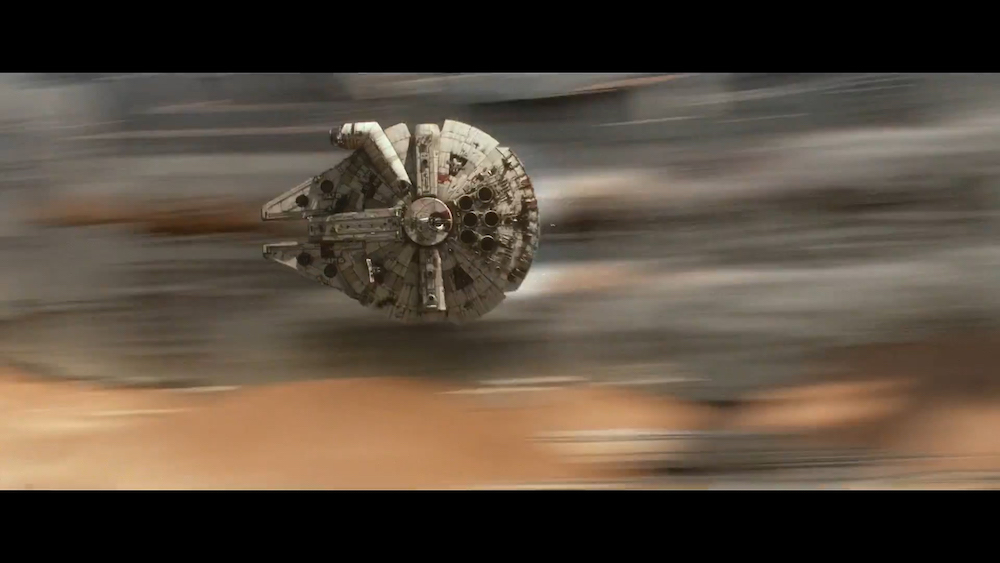Millennium Falcon: (260, 118, 542, 330)
